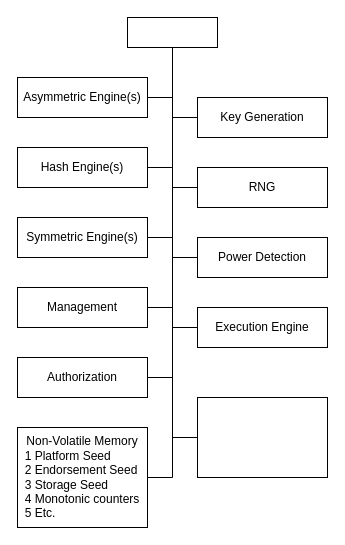
The diagram is 345 pixels wide and 545 high, and some of its shapes have lost their labels. Each missing label, with the centre of its shape:
I/O: the point at 172,32
Volatile Memory 1 PCR Banks 2 Keys in use 3 Sessions 4 Etc.: the point at 262,437
